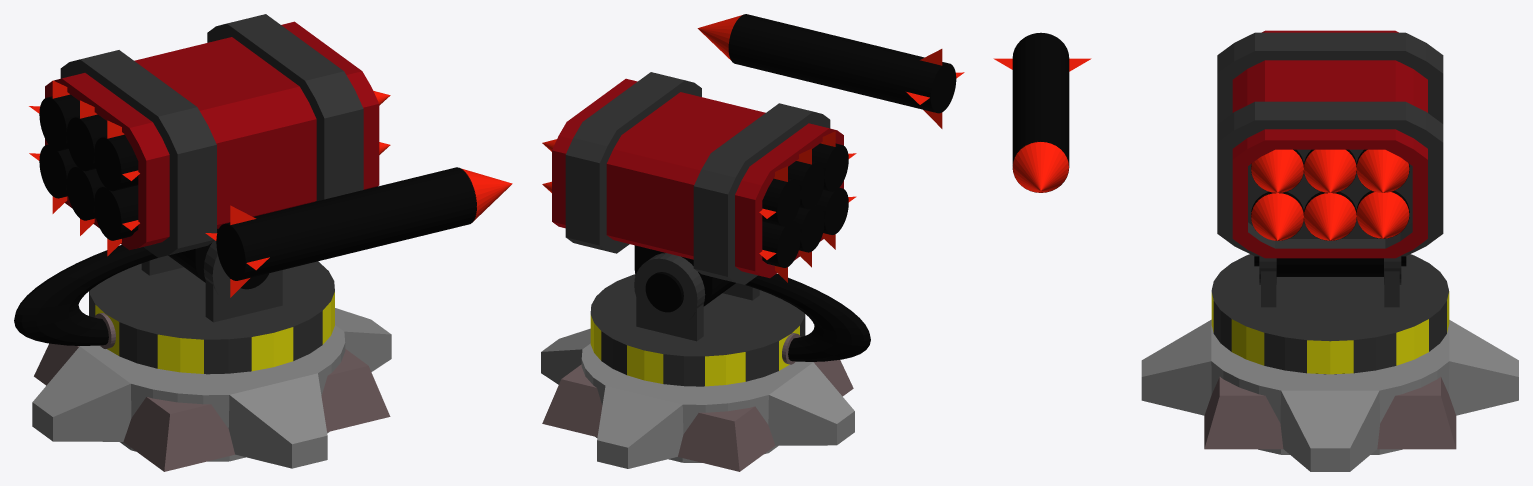
Rendered from WeaponRocketLauncher.fbx.
3 renders of one model, left to right at view 1: azimuth 30°, elevation 25°; view 2: azimuth 150°, elevation 25°; view 3: azimuth 270°, elevation 25°, orthographic. The views are drawn at different scales.
Parts seen in each view (by area): view 1: Cylinder.001, Cylinder, Cylinder.005; view 2: Cylinder.001, Cylinder, Cylinder.005; view 3: Cylinder.001, Cylinder, Cylinder.005.
Boxes of the visible parts, <box> form: Cylinder.001: <box>14,14,390,373</box>; Cylinder: <box>32,308,391,471</box>; Cylinder.005: <box>205,167,512,297</box>; Cylinder.001: <box>542,72,870,386</box>; Cylinder: <box>541,328,854,471</box>; Cylinder.005: <box>697,14,964,128</box>; Cylinder.001: <box>1211,30,1449,374</box>; Cylinder: <box>1141,319,1518,471</box>; Cylinder.005: <box>993,32,1091,192</box>.
Bounding box in the file's own units: 801 × 711 × 1029.
